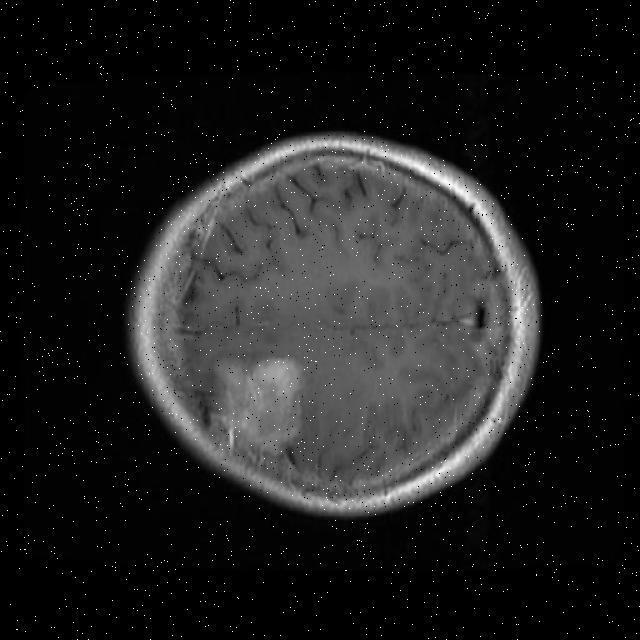Meningioma: (205, 358, 300, 467)
